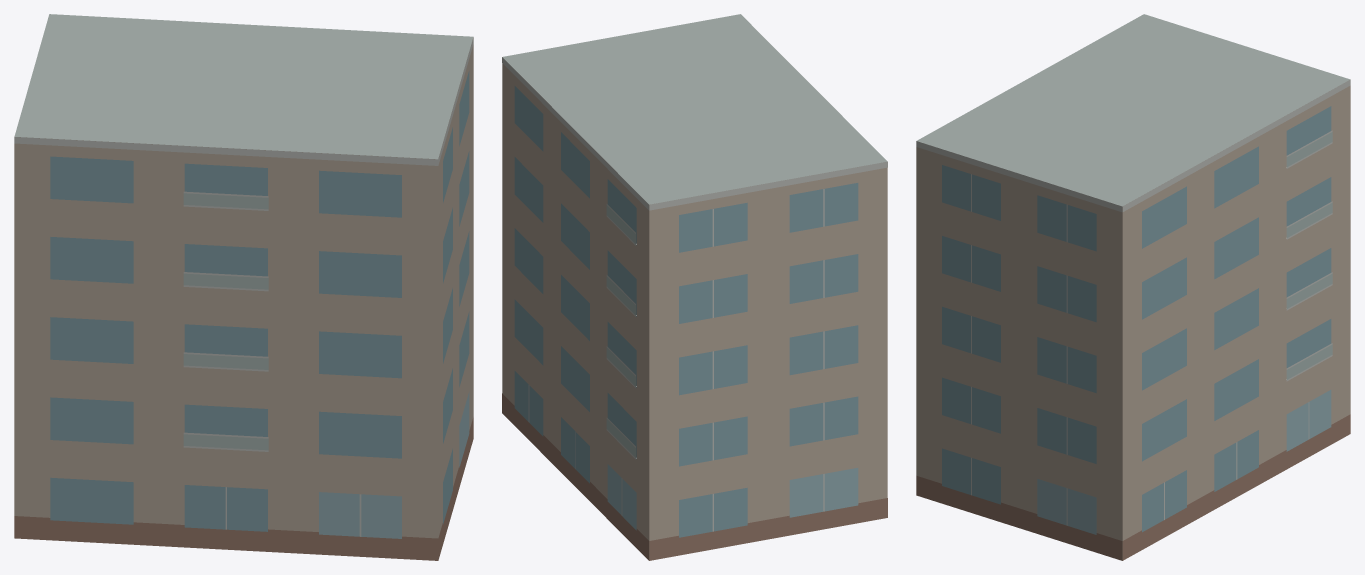
File: survey-upis-32578550.glb
3 renders of one model, left to right at view 1: azimuth 30°, elevation 25°; view 2: azimuth 150°, elevation 25°; view 3: azimuth 270°, elevation 25°, orthographic. The views are drawn at different scales.
Parts seen in each view (by area): view 1: survey-upis-32578550.tmp; view 2: survey-upis-32578550.tmp; view 3: survey-upis-32578550.tmp.
Boxes of the visible parts, x1,y1,x2,y2 form: survey-upis-32578550.tmp: [14, 14, 473, 560]; survey-upis-32578550.tmp: [502, 14, 887, 560]; survey-upis-32578550.tmp: [916, 14, 1350, 560].
Size of the model in its own units: 16.96 by 14.55 by 16.17.
